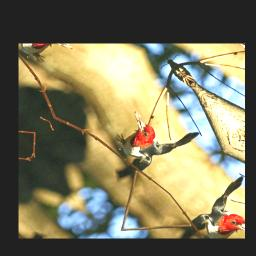Woodpecker: (86, 89, 208, 193)
